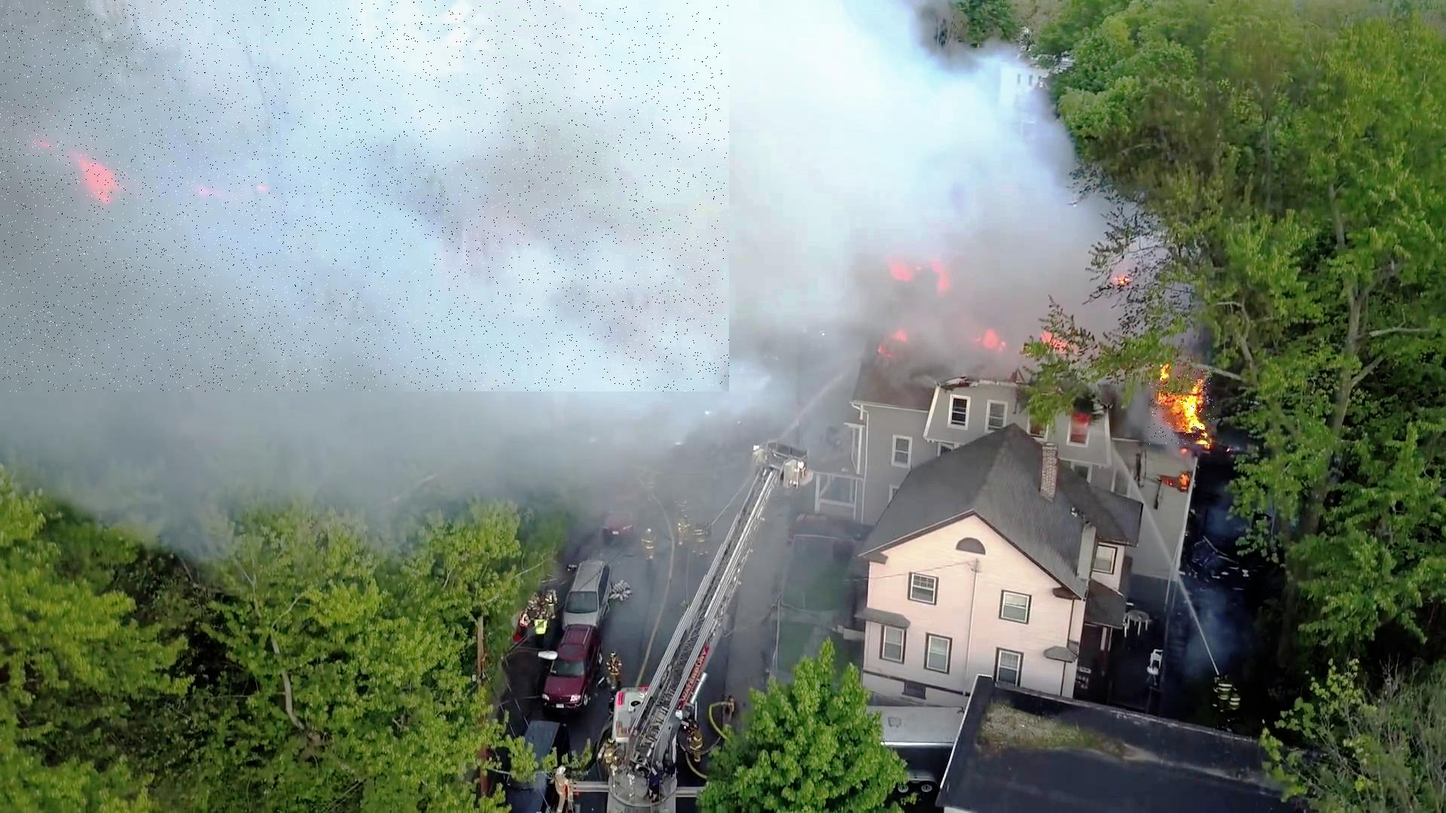fire: (1149, 369, 1215, 444)
smoke: (0, 0, 729, 392)
